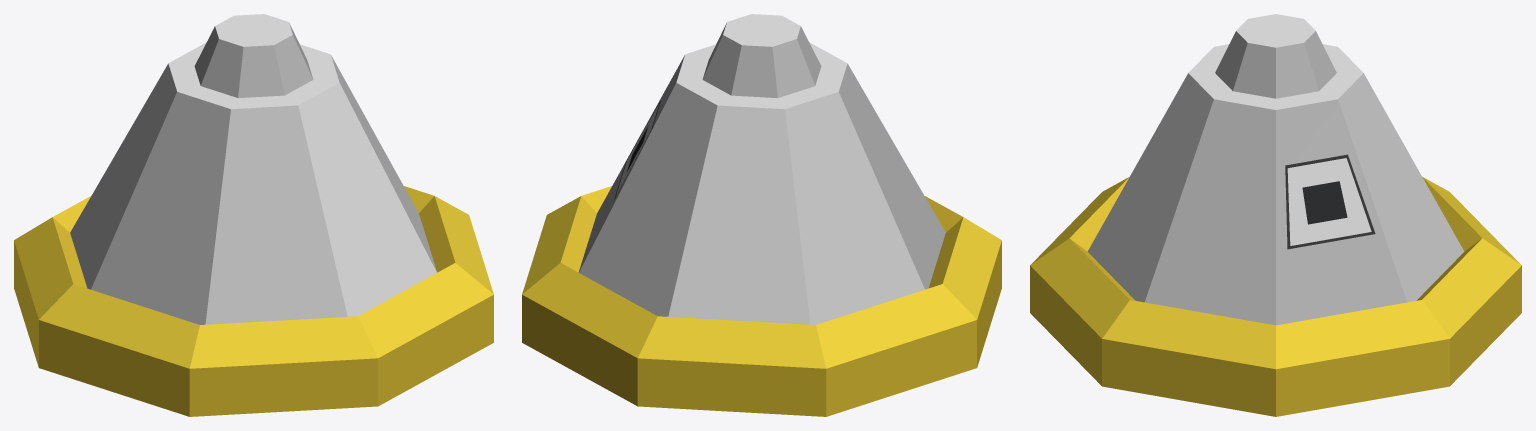
Rendered from SM_Veh_LandingPod_Water_01.fbx.
The picture shows the model from 3 angles, left to right: view 1: azimuth 30°, elevation 25°; view 2: azimuth 150°, elevation 25°; view 3: azimuth 270°, elevation 25°; orthographic projection.
Visible parts, largest first — view 1: SM_Veh_LandingPod_Water_01; view 2: SM_Veh_LandingPod_Water_01; view 3: SM_Veh_LandingPod_Water_01.
Boxes of the visible parts, x1=… form: SM_Veh_LandingPod_Water_01: x1=14, y1=14, x2=493, y2=416; SM_Veh_LandingPod_Water_01: x1=522, y1=14, x2=1001, y2=416; SM_Veh_LandingPod_Water_01: x1=1030, y1=14, x2=1521, y2=416.
Bounding box in the file's own units: 6.57 × 4.16 × 6.57.
